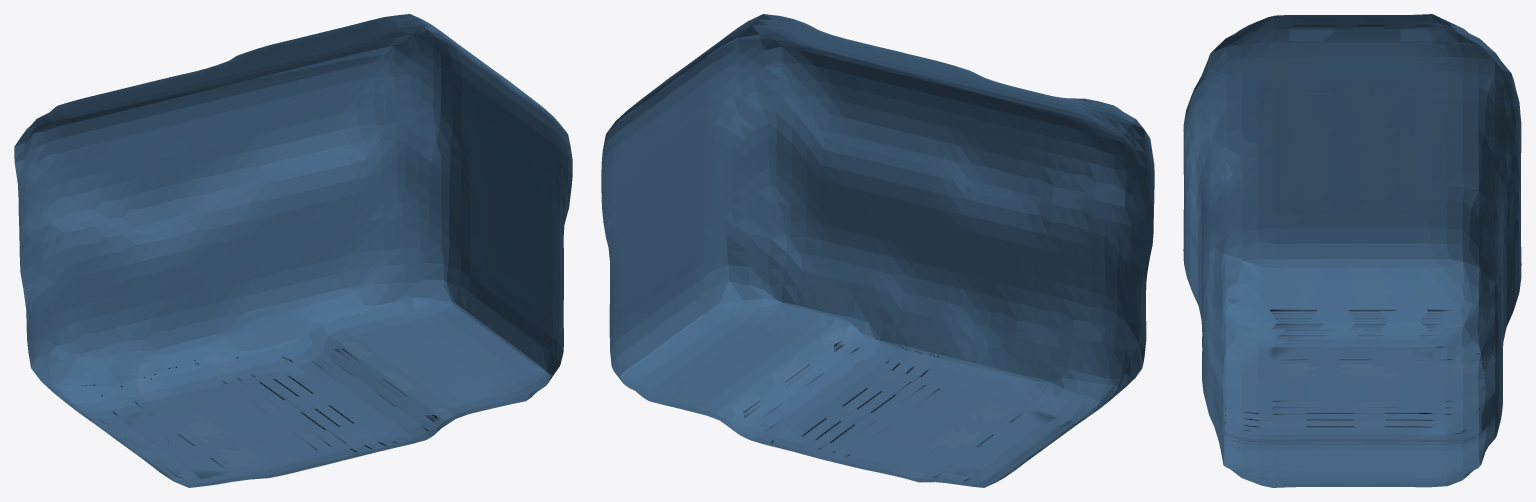
3 renders of one model, left to right at view 1: azimuth 30°, elevation 25°; view 2: azimuth 150°, elevation 25°; view 3: azimuth 270°, elevation 25°, orthographic. The views are drawn at different scales.
Visible parts, largest first — view 1: model; view 2: model; view 3: model.
Boxes of the visible parts, bbox=[...] form: model: bbox=[14, 14, 572, 487]; model: bbox=[601, 14, 1154, 487]; model: bbox=[1183, 14, 1521, 487].
Bounding box in the file's own units: 1 × 0.7367 × 0.7045.
1 material, 1 textured.
